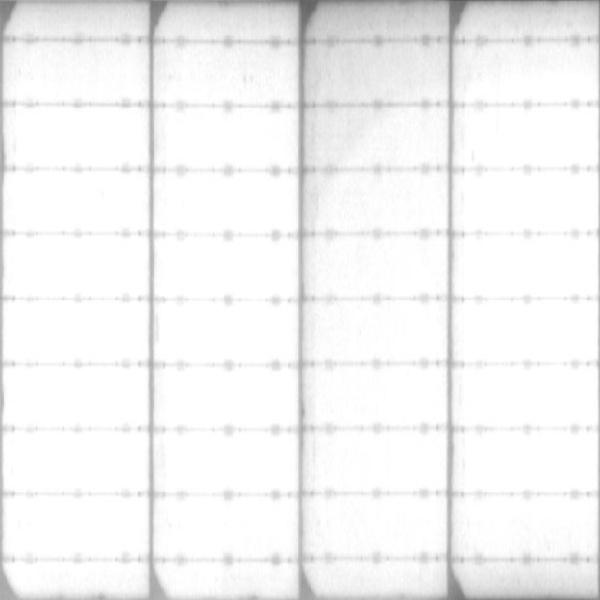hot_spot: (13, 497, 147, 556), (10, 305, 142, 362), (11, 368, 145, 424), (155, 175, 291, 228), (6, 241, 147, 292), (307, 499, 440, 553), (461, 432, 590, 487), (155, 372, 291, 423), (155, 438, 292, 488), (7, 175, 142, 225), (156, 306, 290, 356), (466, 368, 590, 422), (461, 501, 589, 553), (158, 240, 288, 291), (463, 305, 589, 357), (166, 498, 285, 553), (9, 438, 146, 485), (316, 434, 441, 485), (4, 116, 143, 161), (321, 305, 447, 354), (320, 372, 440, 419), (469, 177, 582, 226), (471, 241, 586, 288), (166, 118, 291, 161), (492, 115, 588, 156), (13, 561, 142, 588)
